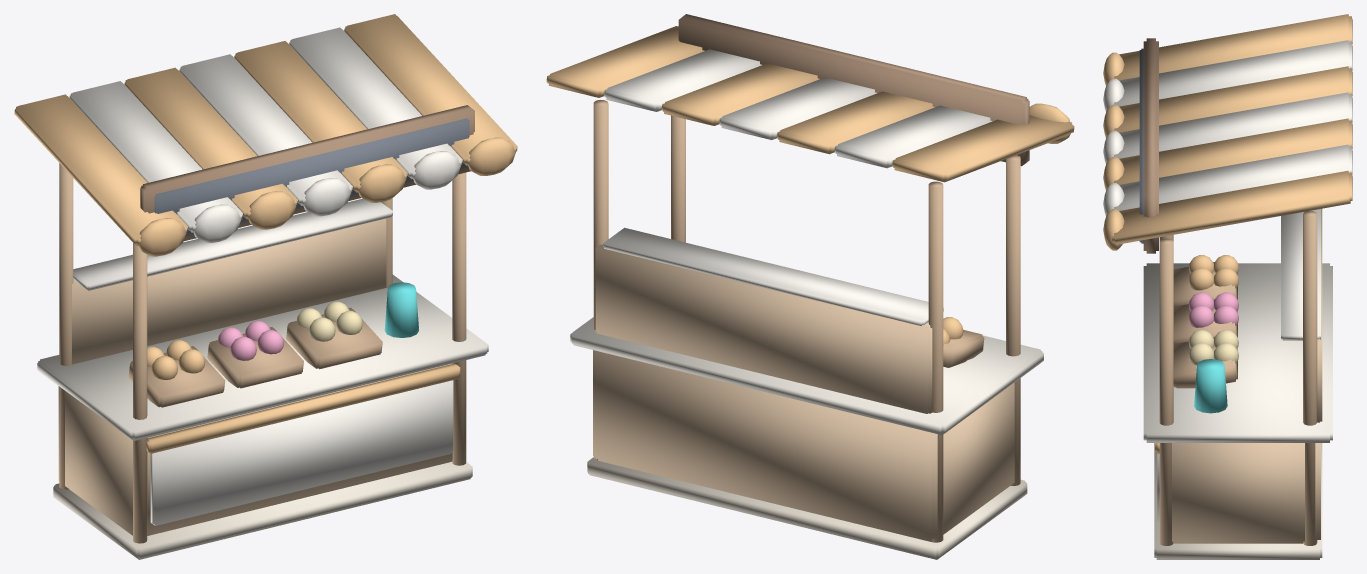
File: MarketStall_Frutas.fbx
3 views of the same model, side by side, from view 1: azimuth 30°, elevation 25°; view 2: azimuth 150°, elevation 25°; view 3: azimuth 270°, elevation 25° (orthographic). The views are drawn at different scales.
Parts seen in each view (by area): view 1: Estab_Base, Estab_CanopyFade; view 2: Estab_Base, Estab_CanopyFade; view 3: Estab_Base, Estab_CanopyFade.
Boxes of the visible parts, x1,y1,x2,y2 form: Estab_Base: (37, 105, 488, 559); Estab_CanopyFade: (14, 14, 517, 256); Estab_Base: (570, 14, 1043, 559); Estab_CanopyFade: (546, 26, 1074, 182); Estab_Base: (1139, 38, 1332, 559); Estab_CanopyFade: (1103, 14, 1352, 250).
Bounding box in the file's own units: 2.82 × 2.73 × 1.63.
